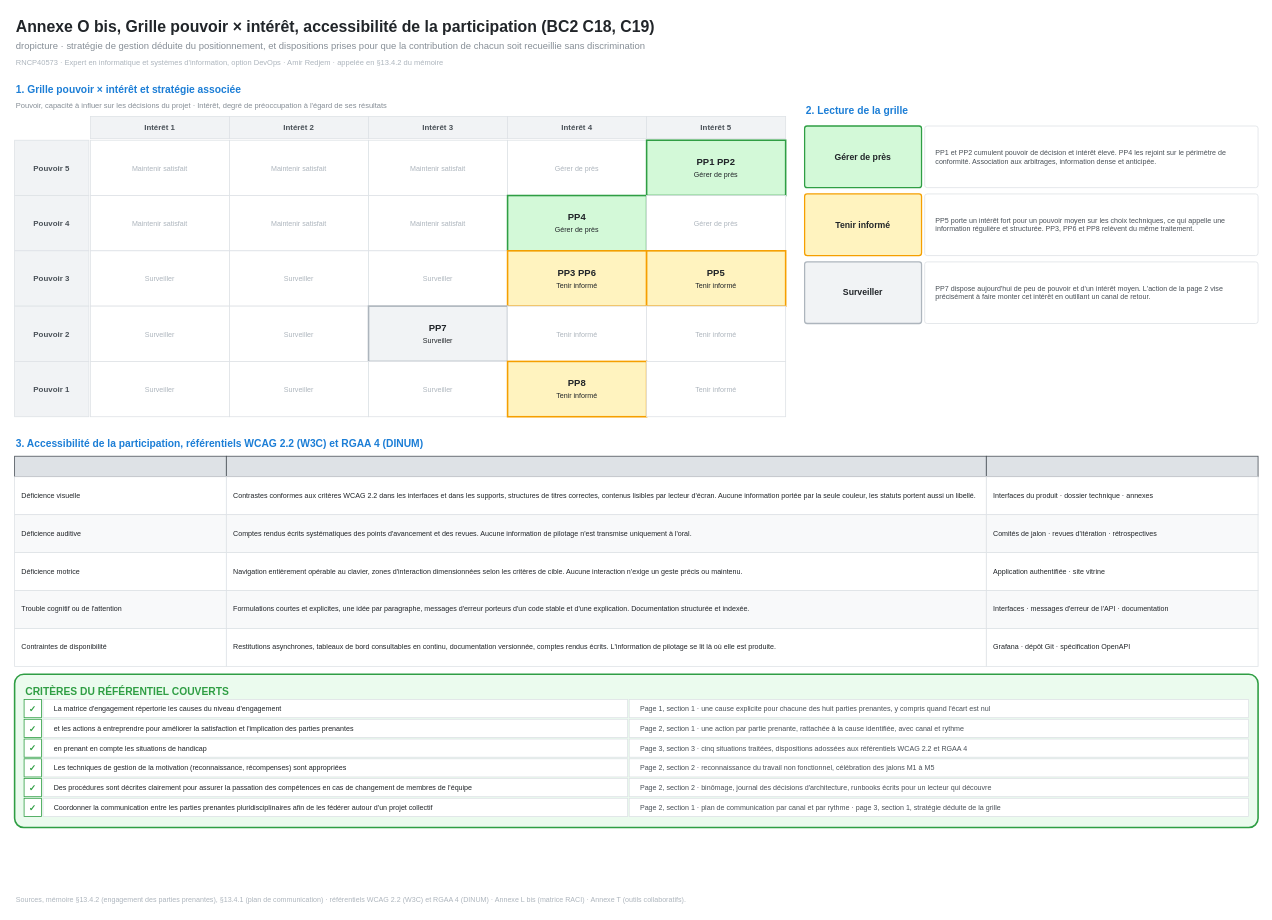
The diagram is 1272 pixels wide and 920 high, and some of its shapes have lost their labels. The centre of each missing label's shape, as x and y in pixels:
Disposition retenue: (606,466)
Où elle s'applique: (1122,466)
Situation prise en compte: (120,466)
